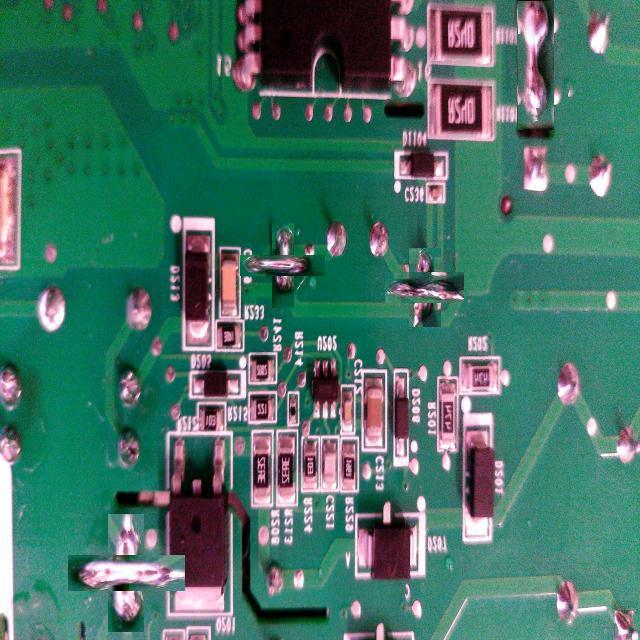Short_circuit: (88, 534, 165, 612), (517, 0, 554, 130), (397, 260, 453, 315), (256, 239, 310, 292)
